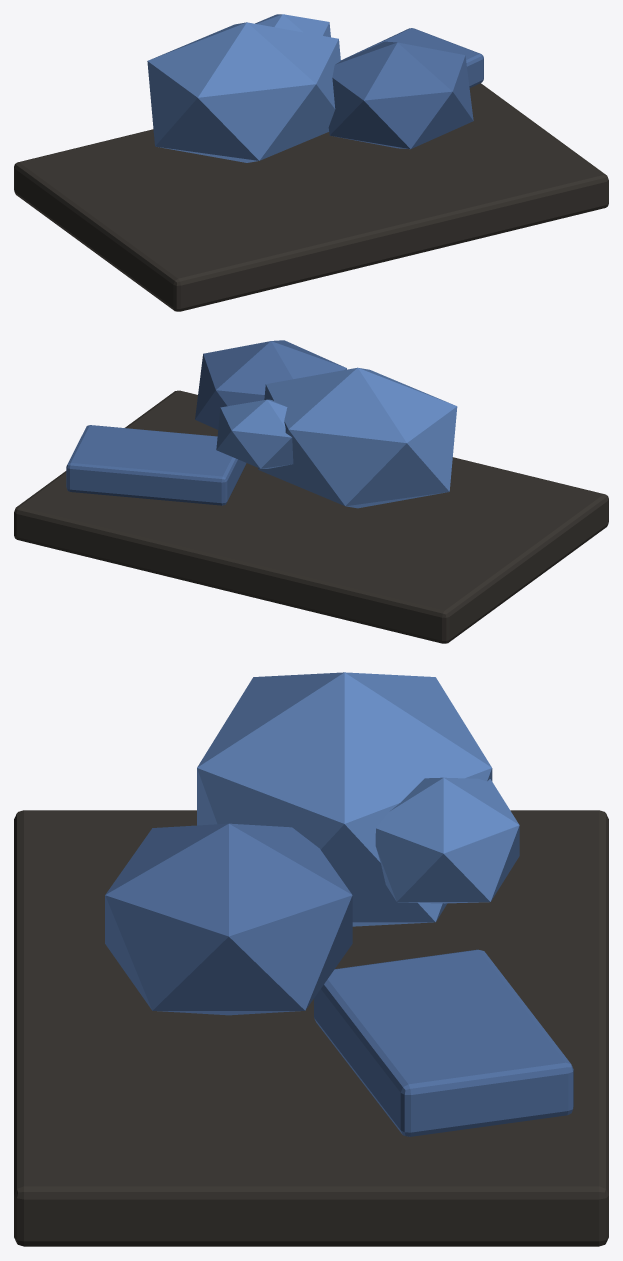
The model's file is cobalt.glb.
3 views of the same model, one above another, from view 1: azimuth 30°, elevation 25°; view 2: azimuth 150°, elevation 25°; view 3: azimuth 270°, elevation 25° (orthographic). The views are drawn at different scales.
Visible parts, largest first — view 1: cobalt-black-pallet, cobalt-lump-0, cobalt-lump-1, cobalt-slab, cobalt-lump-2; view 2: cobalt-black-pallet, cobalt-lump-0, cobalt-slab, cobalt-lump-1, cobalt-lump-2; view 3: cobalt-black-pallet, cobalt-lump-0, cobalt-lump-1, cobalt-slab, cobalt-lump-2.
Part boxes in pixels (bbox=[...]): cobalt-black-pallet: bbox=[14, 83, 608, 311]; cobalt-lump-0: bbox=[147, 22, 340, 162]; cobalt-lump-1: bbox=[328, 41, 473, 149]; cobalt-slab: bbox=[341, 28, 483, 87]; cobalt-lump-2: bbox=[255, 14, 330, 37]; cobalt-black-pallet: bbox=[14, 390, 608, 643]; cobalt-lump-0: bbox=[258, 367, 457, 508]; cobalt-slab: bbox=[66, 425, 246, 505]; cobalt-lump-1: bbox=[195, 340, 346, 429]; cobalt-lump-2: bbox=[216, 399, 293, 468]; cobalt-black-pallet: bbox=[14, 810, 608, 1246]; cobalt-lump-0: bbox=[197, 672, 492, 926]; cobalt-lump-1: bbox=[105, 823, 352, 1015]; cobalt-slab: bbox=[314, 949, 573, 1136]; cobalt-lump-2: bbox=[375, 777, 519, 903].
Bounding box in the file's own units: 1.18 × 0.4827 × 0.7724.
